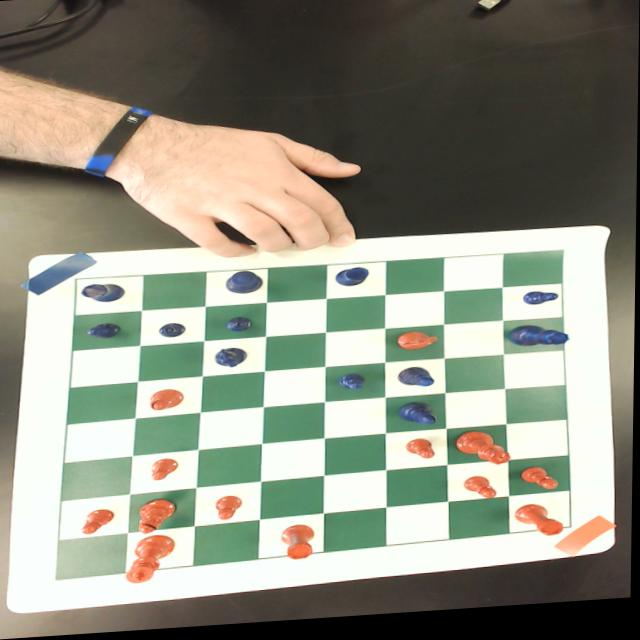B: (398, 406, 439, 432), (398, 371, 436, 394)
K: (224, 272, 266, 298)
N: (215, 348, 252, 372)
P: (525, 295, 561, 313), (87, 322, 122, 340), (159, 323, 189, 340), (340, 377, 368, 394), (226, 319, 255, 335)
Q: (510, 330, 572, 355)
R: (83, 282, 127, 304), (335, 270, 372, 291)
b: (136, 498, 178, 536), (150, 391, 186, 412)
cb: (58, 257, 573, 580)
k: (126, 536, 179, 585)
n: (397, 334, 439, 356)
p: (520, 471, 562, 498), (82, 509, 118, 535), (465, 480, 499, 506), (151, 459, 183, 483), (217, 497, 245, 523), (407, 443, 438, 464)
q: (456, 434, 512, 473)
r: (516, 509, 566, 546), (283, 527, 318, 564)
